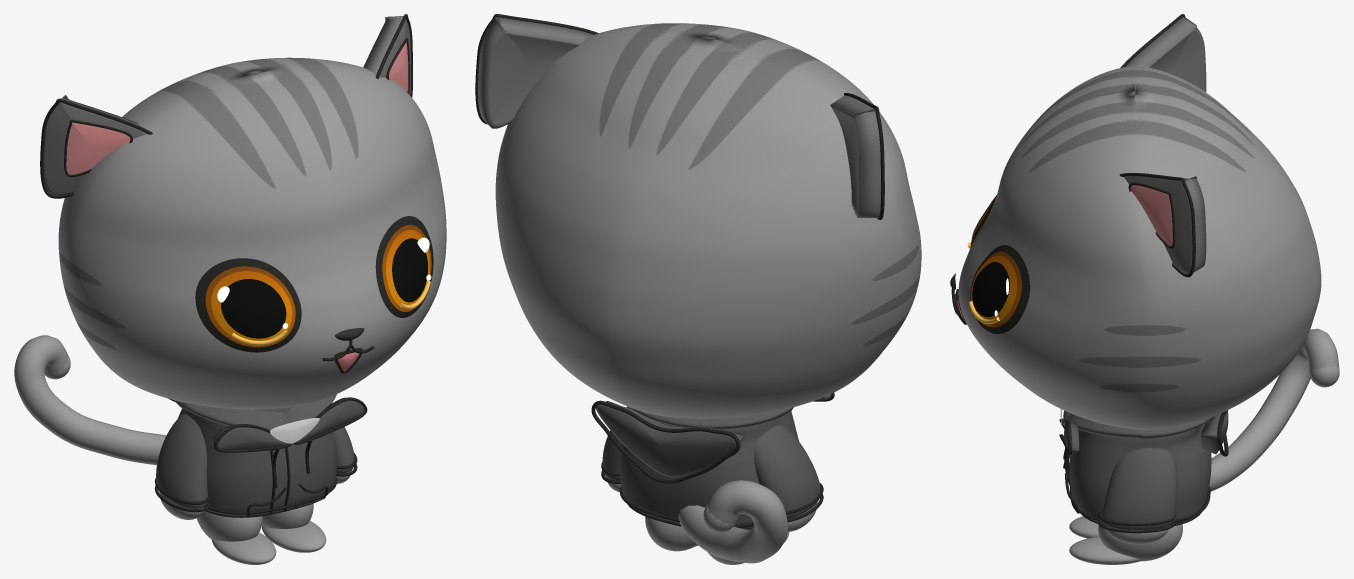
File: CatGray_IP.glb
3 renders of one model, left to right at view 1: azimuth 30°, elevation 25°; view 2: azimuth 150°, elevation 25°; view 3: azimuth 270°, elevation 25°, orthographic. The views are drawn at different scales.
Parts seen in each view (by area): view 1: Head • continuous shaped surface.001, Hoodie • soft fitted torso.001, Tail • continuous upright curl.001, Sleeve L • relaxed arm.001, Ear L • rounded outer shell.001, Eye L • pupil.001, Eye L • charcoal socket.001, Hood • continuous shoulder cowl.001, Ear L • inset pink.001, Eye R • pupil.001, Ear R • rounded outer shell.001, Leg L • gray.001 (+14 smaller); view 2: Head • continuous shaped surface.001, Ear R • rounded outer shell.001, Tail • continuous upright curl.001, Hoodie • soft fitted torso.001, Hood • back drape.001, Ear L • rounded outer shell.001, Sleeve L • relaxed arm.001, Hood • back V hem.001, Hood • continuous shoulder cowl.001, Leg R • gray.001, Ear R • rounded outer shell • perimeter.001, Sleeve R • relaxed arm.001 (+1 smaller); view 3: Head • continuous shaped surface.001, Hoodie • soft fitted torso.001, Tail • continuous upright curl.001, Sleeve R • relaxed arm.001, Ear R • rounded outer shell.001, Ear L • rounded outer shell.001, Eye R • pupil.001, Hood • continuous shoulder cowl.001, Leg R • gray.001, Ear R • inset pink.001, Eye R • charcoal socket.001, Paw R • small flat foot.001 (+7 smaller).
Boxes of the visible parts, x1,y1,x2,y2 form: Head • continuous shaped surface.001: [58, 57, 446, 409]; Hoodie • soft fitted torso.001: [178, 407, 337, 515]; Tail • continuous upright curl.001: [14, 335, 166, 465]; Sleeve L • relaxed arm.001: [156, 413, 207, 508]; Ear L • rounded outer shell.001: [43, 95, 146, 195]; Eye L • pupil.001: [221, 279, 286, 338]; Eye L • charcoal socket.001: [195, 258, 301, 352]; Hood • continuous shoulder cowl.001: [174, 394, 336, 429]; Ear L • inset pink.001: [66, 122, 130, 174]; Eye R • pupil.001: [392, 238, 427, 302]; Ear R • rounded outer shell.001: [363, 16, 411, 95]; Leg L • gray.001: [197, 511, 262, 541]; Head • continuous shaped surface.001: [495, 23, 921, 418]; Ear R • rounded outer shell.001: [478, 17, 593, 128]; Tail • continuous upright curl.001: [678, 480, 787, 563]; Hoodie • soft fitted torso.001: [619, 411, 798, 528]; Hood • back drape.001: [595, 401, 745, 477]; Ear L • rounded outer shell.001: [830, 95, 880, 218]; Sleeve L • relaxed arm.001: [753, 425, 820, 518]; Hood • back V hem.001: [591, 400, 740, 483]; Hood • continuous shoulder cowl.001: [629, 407, 793, 429]; Leg R • gray.001: [645, 516, 697, 551]; Ear R • rounded outer shell • perimeter.001: [475, 14, 598, 124]; Sleeve R • relaxed arm.001: [602, 406, 631, 480]; Head • continuous shaped surface.001: [958, 66, 1321, 429]; Hoodie • soft fitted torso.001: [1069, 424, 1211, 524]; Tail • continuous upright curl.001: [1209, 328, 1339, 491]; Sleeve R • relaxed arm.001: [1101, 448, 1177, 530]; Ear R • rounded outer shell.001: [1124, 176, 1206, 273]; Ear L • rounded outer shell.001: [1125, 16, 1206, 92]; Eye R • pupil.001: [972, 262, 1009, 316]; Hood • continuous shoulder cowl.001: [1062, 410, 1213, 438]; Leg R • gray.001: [1098, 524, 1182, 561]; Ear R • inset pink.001: [1130, 185, 1172, 246]; Eye R • charcoal socket.001: [970, 245, 1030, 333]; Paw R • small flat foot.001: [1069, 536, 1141, 564].
Bounding box in the file's own units: 3.65 × 4.38 × 3.41.
14 materials, 1 textured.
